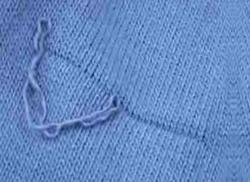snag: (77, 93, 127, 124)
